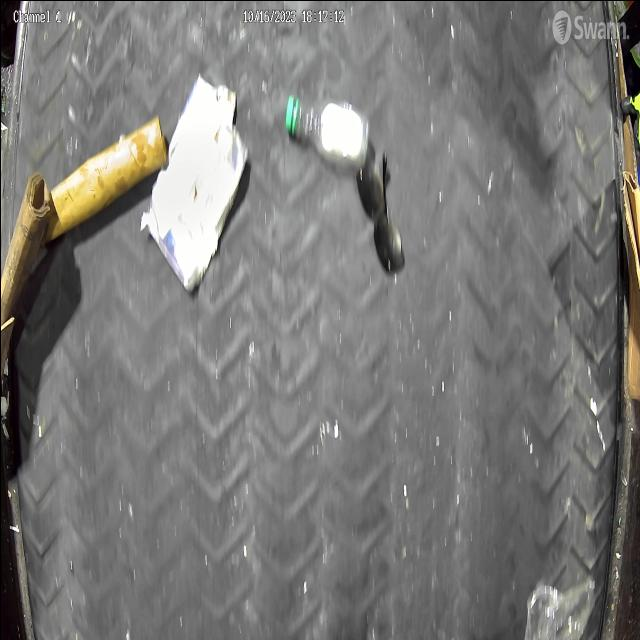plastic_bottle: (282, 84, 369, 175)
